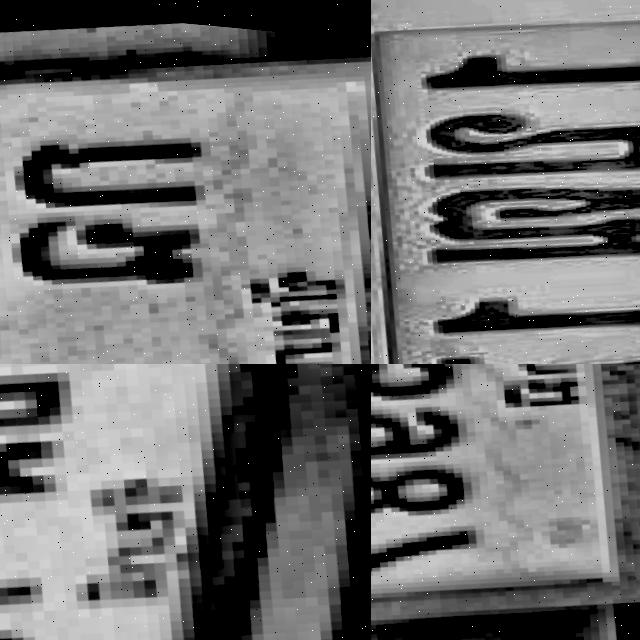license-plate: (0, 0, 371, 364), (371, 0, 640, 364), (0, 364, 321, 640), (371, 364, 640, 640)
